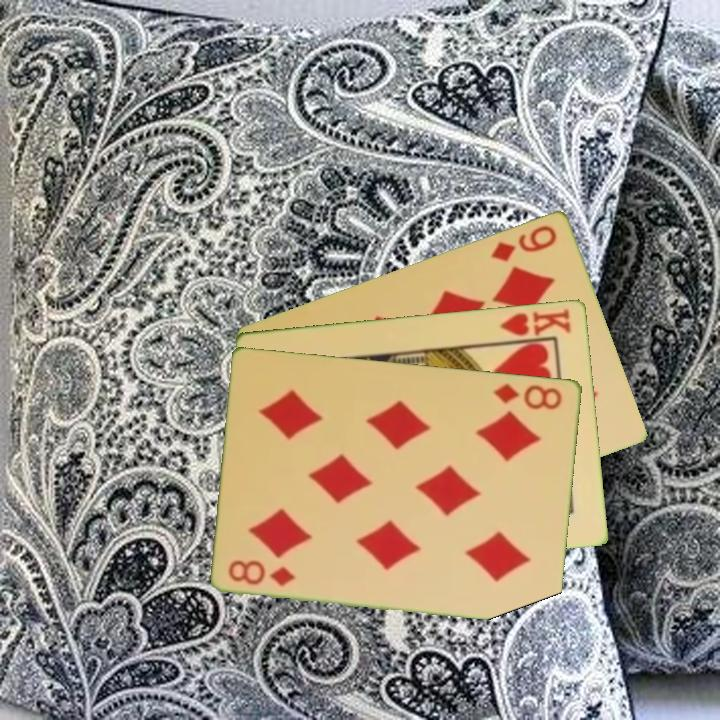8d: (225, 556, 298, 589), (491, 380, 566, 412)
9d: (488, 221, 560, 264)
Kh: (494, 305, 574, 345)
